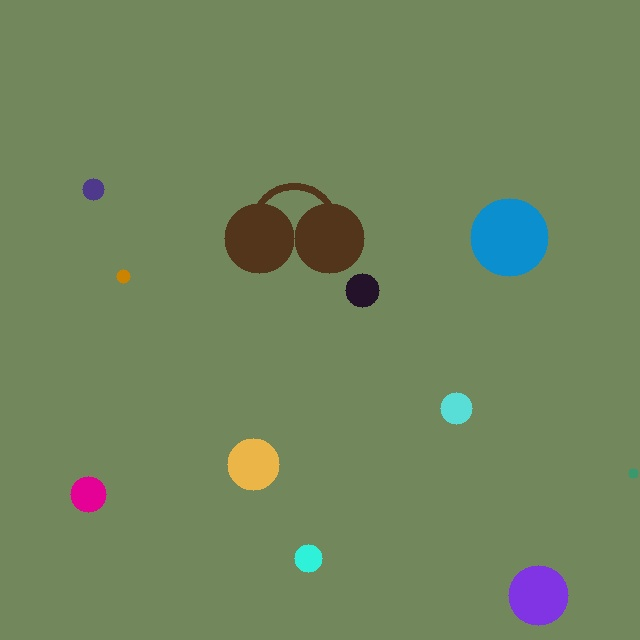over_ear: (220, 178, 368, 277)
